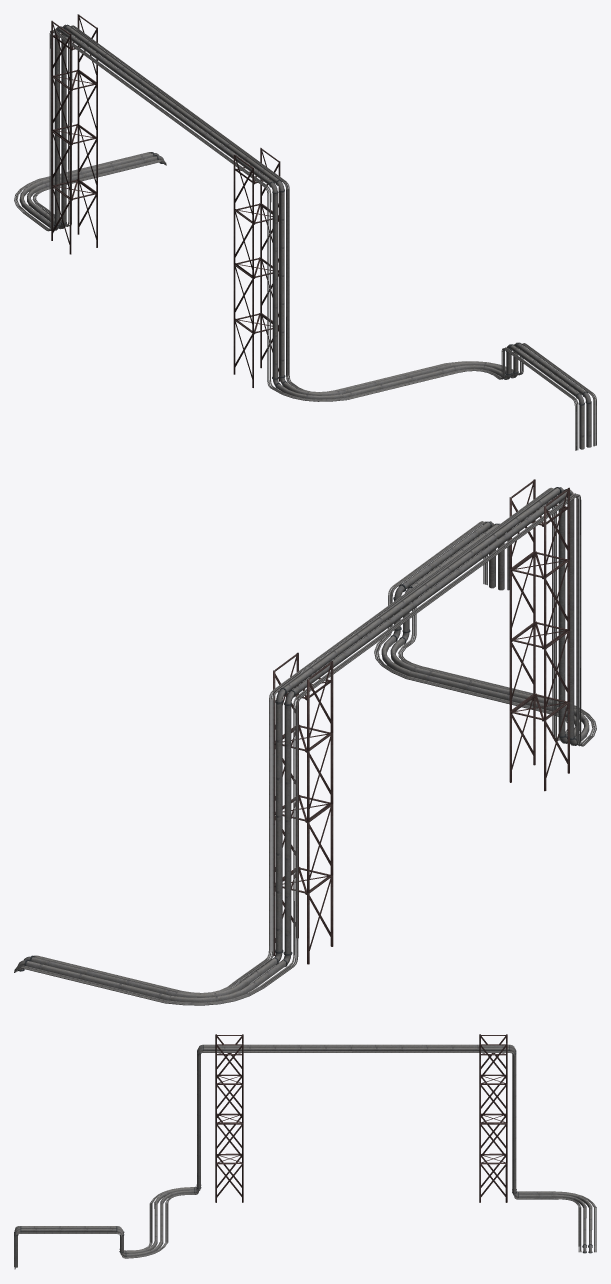
The model's file is pipe_02.FBX.
3 renders of one model, top to bottom at view 1: azimuth 30°, elevation 25°; view 2: azimuth 150°, elevation 25°; view 3: azimuth 270°, elevation 25°, orthographic. The views are drawn at different scales.
Visible parts, largest first — view 1: Object41229; view 2: Object41229; view 3: Object41229.
Part boxes in pixels (x1=…): Object41229: x1=14, y1=14, x2=596, y2=450; Object41229: x1=14, y1=479, x2=596, y2=1005; Object41229: x1=14, y1=1034, x2=596, y2=1269.
Size of the model in its own units: 2405 by 8158 by 2517.
Materials: 2 (2 with a texture image).
